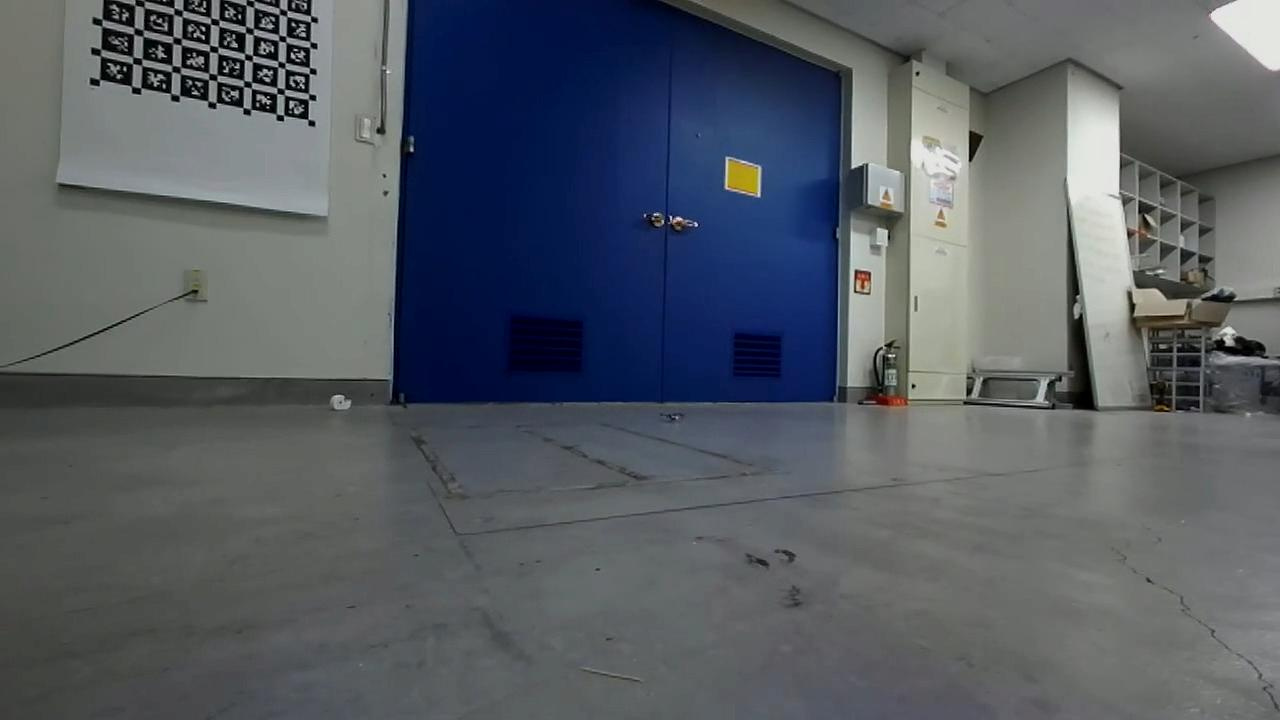crazyflie: (656, 403, 694, 429)
